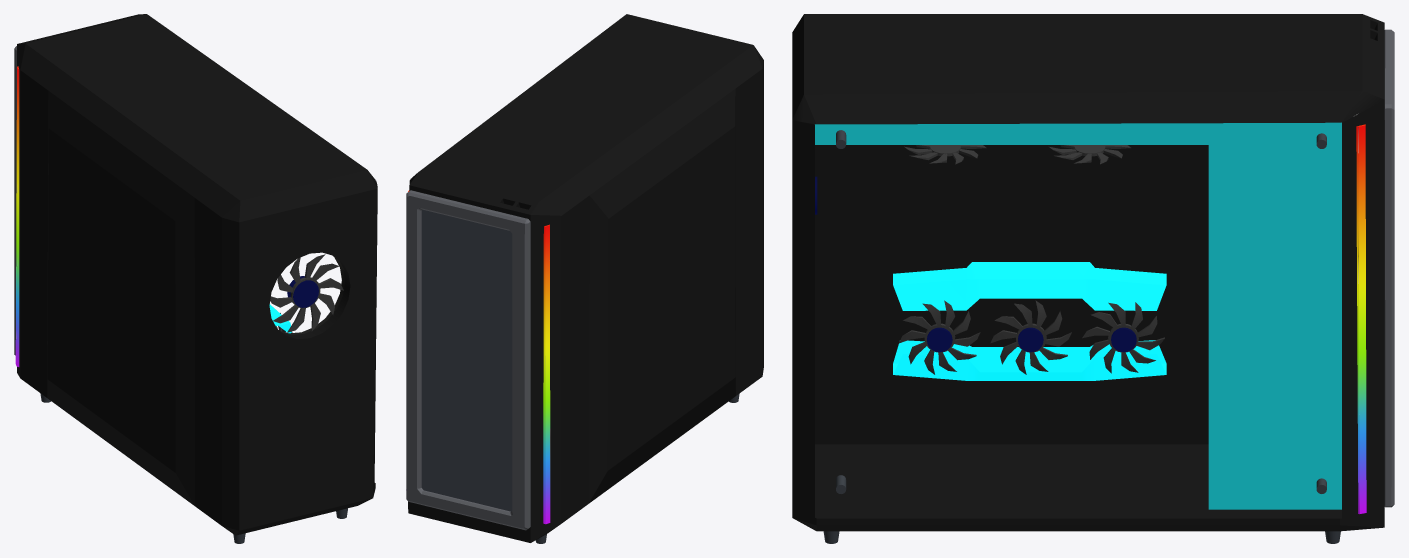
The model's file is chosen-cpu-case2.glb.
3 views of the same model, side by side, from view 1: azimuth 30°, elevation 25°; view 2: azimuth 150°, elevation 25°; view 3: azimuth 270°, elevation 25° (orthographic). The views are drawn at different scales.
Visible parts, largest first — view 1: Object_18, Object_22.001, Object_33, Object_24, Object_17; view 2: Object_18, Object_9, Object_24, Object_33; view 3: Object_18, Object_38, Object_27, Object_22, Object_24, Object_33, Object_17.
Part boxes in pixels (x1,y1,x2,y2): Object_18: (17,14,377,535); Object_22.001: (270,254,343,332); Object_33: (15,66,19,366); Object_24: (14,46,16,355); Object_17: (286,276,318,332); Object_18: (408,14,763,542); Object_9: (421,209,512,511); Object_24: (406,190,530,530); Object_33: (408,190,550,524); Object_18: (792,14,1384,531); Object_38: (815,122,1341,509); Object_27: (893,262,1166,380); Object_22: (899,145,1164,374); Object_24: (1384,29,1394,507); Object_33: (1356,124,1366,514); Object_17: (815,176,1136,352).
Size of the model in its own units: 0.3895 by 0.8003 by 0.9575.
Materials: 13 (1 with a texture image).
